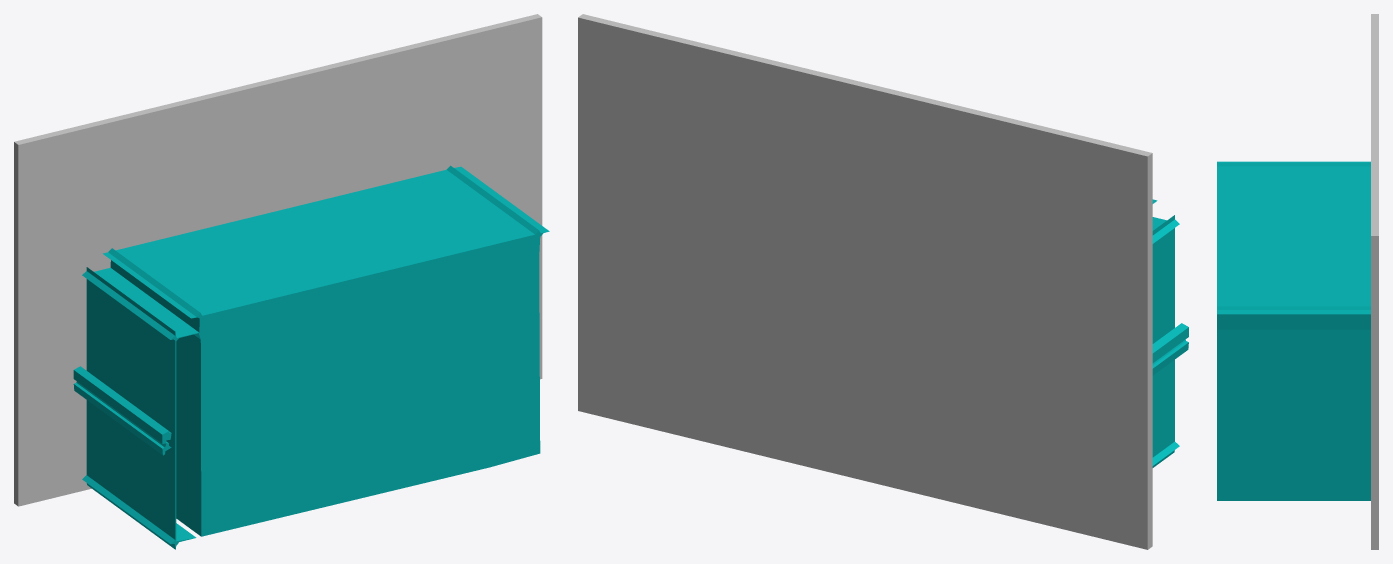
3 views of the same model, side by side, from view 1: azimuth 30°, elevation 25°; view 2: azimuth 150°, elevation 25°; view 3: azimuth 270°, elevation 25° (orthographic). The views are drawn at different scales.
Parts seen in each view (by area): view 1: world; view 2: world; view 3: world.
Part boxes in pixels (bbox=[...]): world: bbox=[14, 14, 549, 549]; world: bbox=[578, 14, 1188, 549]; world: bbox=[1217, 14, 1378, 549].
Size of the model in its own units: 10.23 by 6.75 by 3.15.
